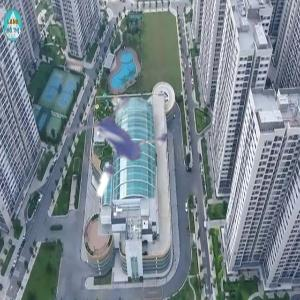drone: (38, 78, 184, 224)
